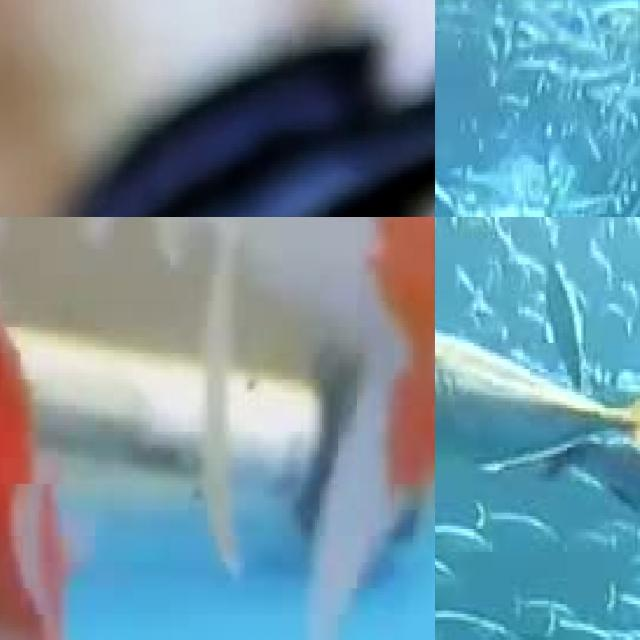fish: (0, 0, 435, 217), (435, 297, 640, 506)
